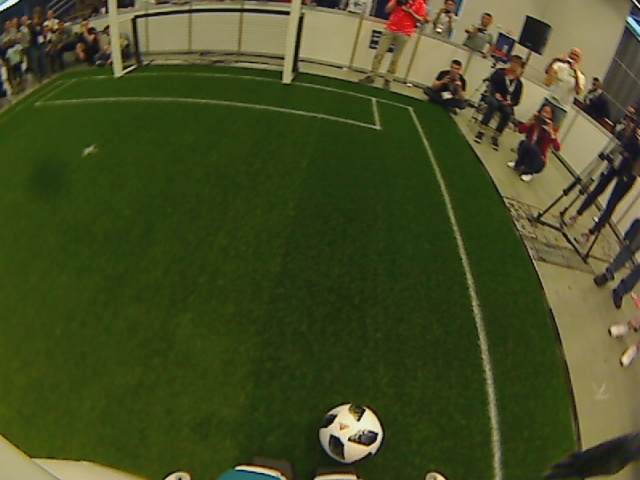ball: (316, 400, 385, 464)
